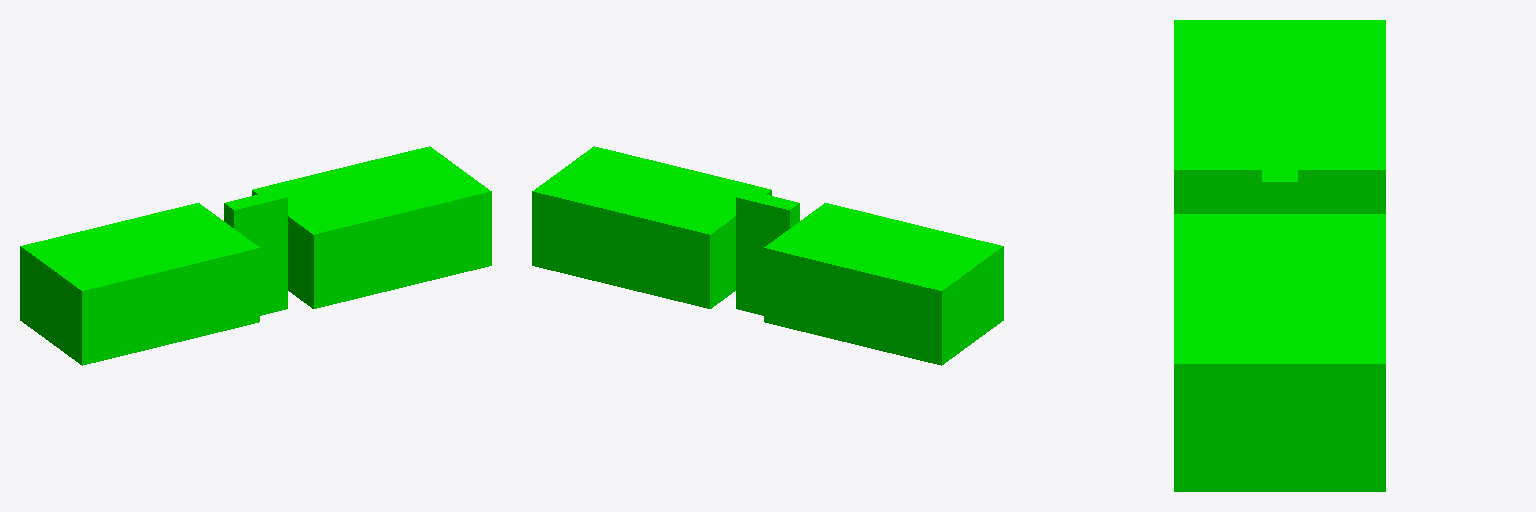
robot.urdf — robot:
<robot name = "robot">
    <link name="root">
        <inertial>
            <origin xyz="0.0 0.0 1.5" rpy="0 0 0"/>
            <mass value="1" />
            <inertia ixx="100" ixy="0" ixz="0" iyy="100" iyz="0" izz="100" />
        </inertial>
        <visual>
            <origin xyz="0.0 0.0 1.5" rpy="0 0 0"/>
            <geometry>
                <box size="0 0 0.0001" />
            </geometry>
            <material name="Green">
                <color rgba="0 1.0 0.0 1.0"/>
            </material>
        </visual>
        <collision>
            <origin xyz="0.0 0.0 1.5" rpy="0 0 0"/>
            <geometry>
                <box size="0 0 0.0001" />
            </geometry>
        </collision>
    </link>
    <joint name="root_000" type="revolute">
       <parent link="root"/>
       <child  link="000"/>
       <origin rpy="0 0 0" xyz="0.0 0.0 1.5" />
     <axis xyz="1 0 0"/>
       <limit effort="0.0" lower="-3.14159" upper="3.14159" velocity="0.0"/>
    </joint>
    <link name="000">
        <inertial>
            <origin xyz="0.0 0.0 -0.3" rpy="0 0 0"/>
            <mass value="1" />
            <inertia ixx="100" ixy="0" ixz="0" iyy="100" iyz="0" izz="100" />
        </inertial>
        <visual>
            <origin xyz="0.0 0.0 -0.3" rpy="0 0 0"/>
            <geometry>
                <box size="0.3 0.1 0.6" />
            </geometry>
            <material name="Green">
                <color rgba="0 1.0 0.0 1.0"/>
            </material>
        </visual>
        <collision>
            <origin xyz="0.0 0.0 -0.3" rpy="0 0 0"/>
            <geometry>
                <box size="0.3 0.1 0.6" />
            </geometry>
        </collision>
    </link>
    <joint name="000_000-100" type="revolute">
       <parent link="000"/>
       <child  link="000-100"/>
       <origin rpy="0 0 0" xyz="0.15 0.0 -0.3" />
     <axis xyz="1 0 0"/>
       <limit effort="0.0" lower="-3.14159" upper="3.14159" velocity="0.0"/>
    </joint>
    <link name="000-100">
        <inertial>
            <origin xyz="0.25 0.0 -0.0" rpy="0 0 0"/>
            <mass value="1" />
            <inertia ixx="100" ixy="0" ixz="0" iyy="100" iyz="0" izz="100" />
        </inertial>
        <visual>
            <origin xyz="0.25 0.0 -0.0" rpy="0 0 0"/>
            <geometry>
                <box size="0.5 0.6 0.4" />
            </geometry>
            <material name="Green">
                <color rgba="0 1.0 0.0 1.0"/>
            </material>
        </visual>
        <collision>
            <origin xyz="0.25 0.0 -0.0" rpy="0 0 0"/>
            <geometry>
                <box size="0.5 0.6 0.4" />
            </geometry>
        </collision>
    </link>
    <joint name="000-100_000-110" type="revolute">
       <parent link="000-100"/>
       <child  link="000-110"/>
       <origin rpy="0 0 0" xyz="0.5 0.0 -0.0" />
     <axis xyz="1 0 0"/>
       <limit effort="0.0" lower="-3.14159" upper="3.14159" velocity="0.0"/>
    </joint>
    <link name="000-110">
        <inertial>
            <origin xyz="0.25 0.0 -0.0" rpy="0 0 0"/>
            <mass value="1" />
            <inertia ixx="100" ixy="0" ixz="0" iyy="100" iyz="0" izz="100" />
        </inertial>
        <visual>
            <origin xyz="0.25 0.0 -0.0" rpy="0 0 0"/>
            <geometry>
                <box size="0.5 0.6 0.4" />
            </geometry>
            <material name="Green">
                <color rgba="0 1.0 0.0 1.0"/>
            </material>
        </visual>
        <collision>
            <origin xyz="0.25 0.0 -0.0" rpy="0 0 0"/>
            <geometry>
                <box size="0.5 0.6 0.4" />
            </geometry>
        </collision>
    </link>
    <joint name="000_000-101" type="revolute">
       <parent link="000"/>
       <child  link="000-101"/>
       <origin rpy="0 0 0" xyz="-0.15 0.0 -0.3" />
     <axis xyz="1 0 0"/>
       <limit effort="0.0" lower="-3.14159" upper="3.14159" velocity="0.0"/>
    </joint>
    <link name="000-101">
        <inertial>
            <origin xyz="-0.25 0.0 -0.0" rpy="0 0 0"/>
            <mass value="1" />
            <inertia ixx="100" ixy="0" ixz="0" iyy="100" iyz="0" izz="100" />
        </inertial>
        <visual>
            <origin xyz="-0.25 0.0 -0.0" rpy="0 0 0"/>
            <geometry>
                <box size="0.5 0.6 0.4" />
            </geometry>
            <material name="Green">
                <color rgba="0 1.0 0.0 1.0"/>
            </material>
        </visual>
        <collision>
            <origin xyz="-0.25 0.0 -0.0" rpy="0 0 0"/>
            <geometry>
                <box size="0.5 0.6 0.4" />
            </geometry>
        </collision>
    </link>
    <joint name="000-101_000-111" type="revolute">
       <parent link="000-101"/>
       <child  link="000-111"/>
       <origin rpy="0 0 0" xyz="-0.5 0.0 -0.0" />
     <axis xyz="1 0 0"/>
       <limit effort="0.0" lower="-3.14159" upper="3.14159" velocity="0.0"/>
    </joint>
    <link name="000-111">
        <inertial>
            <origin xyz="-0.25 0.0 -0.0" rpy="0 0 0"/>
            <mass value="1" />
            <inertia ixx="100" ixy="0" ixz="0" iyy="100" iyz="0" izz="100" />
        </inertial>
        <visual>
            <origin xyz="-0.25 0.0 -0.0" rpy="0 0 0"/>
            <geometry>
                <box size="0.5 0.6 0.4" />
            </geometry>
            <material name="Green">
                <color rgba="0 1.0 0.0 1.0"/>
            </material>
        </visual>
        <collision>
            <origin xyz="-0.25 0.0 -0.0" rpy="0 0 0"/>
            <geometry>
                <box size="0.5 0.6 0.4" />
            </geometry>
        </collision>
    </link>
</robot>

--- Render facts (derived) ---
The picture shows the robot from 3 angles, left to right: view 1: azimuth 30°, elevation 25°; view 2: azimuth 150°, elevation 25°; view 3: azimuth 270°, elevation 25°; orthographic projection.
Robot: robot — 6 links, 5 joints (5 revolute); root link root; default pose: every joint at zero.
Visible links, largest first — view 1: 000-111, 000-100, 000-101, 000-110, 000; view 2: 000-111, 000-100, 000-101, 000-110, 000; view 3: 000-110, 000-101, 000-100, 000-111, 000.
Boxes of the visible links, <box> form: 000-111: <box>20,224,170,365</box>; 000-100: <box>252,168,402,308</box>; 000-101: <box>110,203,259,343</box>; 000-110: <box>342,146,491,286</box>; 000: <box>224,190,287,315</box>; 000-111: <box>853,224,1003,365</box>; 000-100: <box>621,168,771,308</box>; 000-101: <box>764,203,913,343</box>; 000-110: <box>532,146,681,286</box>; 000: <box>736,190,799,315</box>; 000-110: <box>1174,289,1385,491</box>; 000-101: <box>1174,95,1385,213</box>; 000-100: <box>1174,214,1385,288</box>; 000-111: <box>1174,20,1385,94</box>; 000: <box>1262,138,1297,213</box>.
Size in the robot's own frame: 2.3 by 0.6 by 0.6 metres.
Geometry: primitives only (box / cylinder / sphere), no mesh files.
